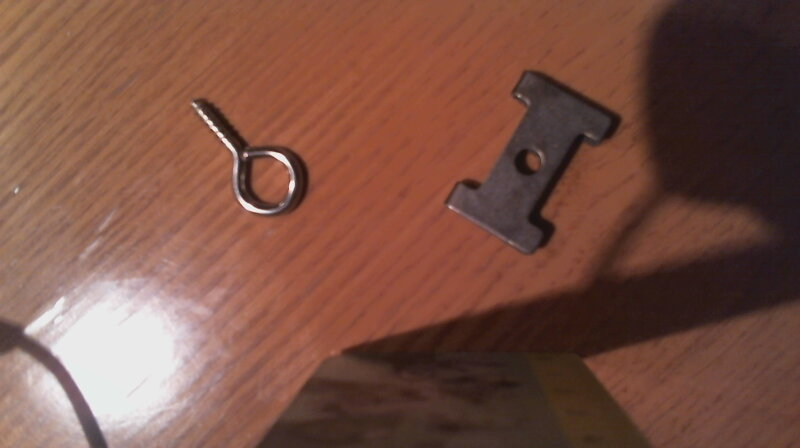O001: (188, 91, 305, 219)
O002: (441, 66, 618, 255)
